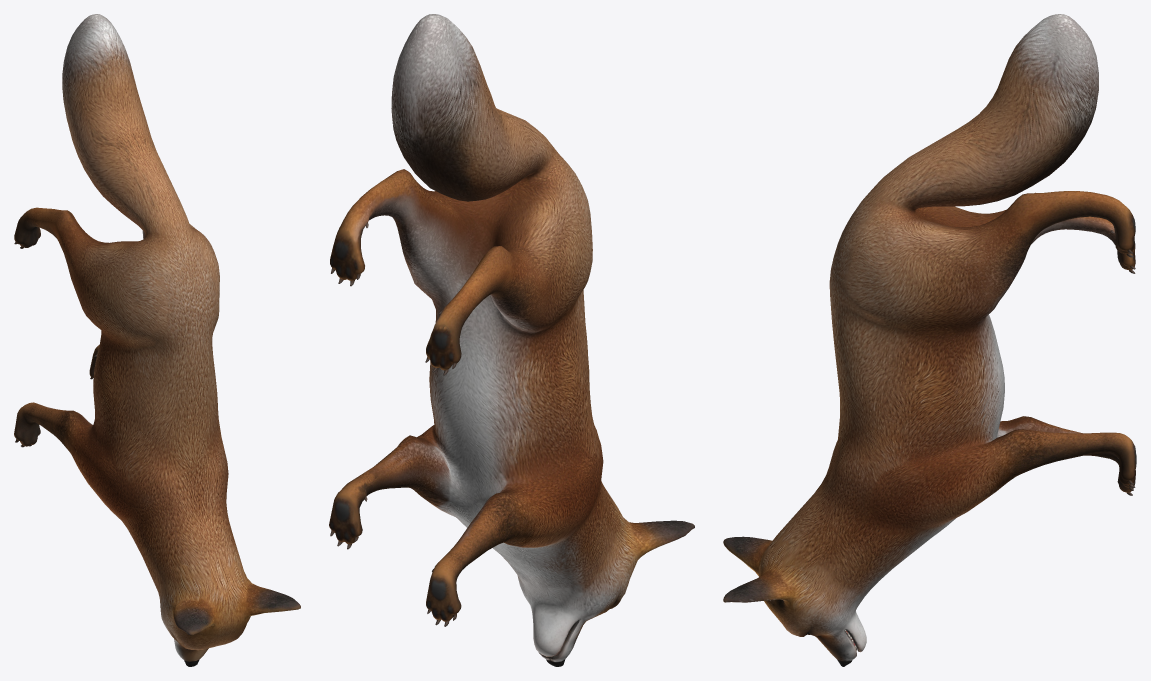
File: fox.glb
The picture shows the model from 3 angles, left to right: view 1: azimuth 30°, elevation 25°; view 2: azimuth 150°, elevation 25°; view 3: azimuth 270°, elevation 25°; orthographic projection. The views are drawn at different scales.
Parts seen in each view (by area): view 1: mesh_0.001; view 2: mesh_0.001; view 3: mesh_0.001.
Boxes of the visible parts, <box> form: mesh_0.001: <box>14,14,300,666</box>; mesh_0.001: <box>329,14,694,666</box>; mesh_0.001: <box>723,14,1136,666</box>.
Bounding box in the file's own units: 0.2851 × 1.38 × 0.7919.
1 material, 1 textured.
